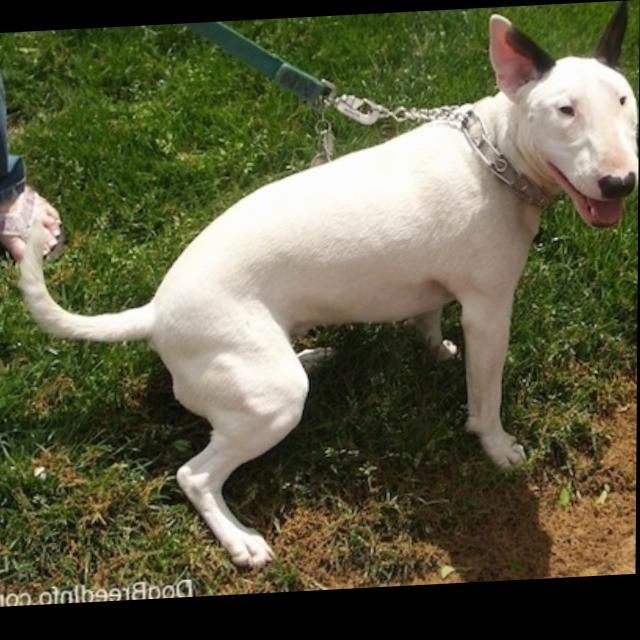bullterrier: (16, 8, 640, 583)
